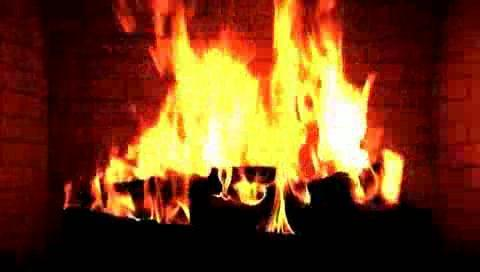fire: (73, 19, 388, 232)
